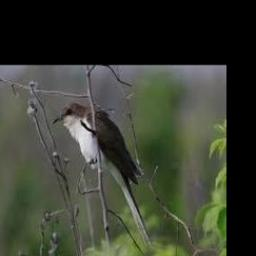Cuckoo: (53, 101, 153, 249)
